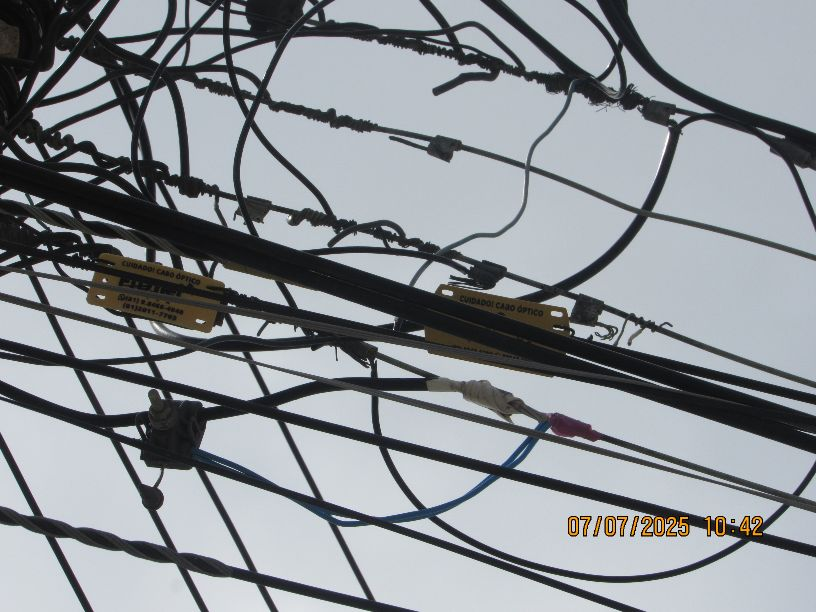fibra_optica: (0, 249, 488, 347)
